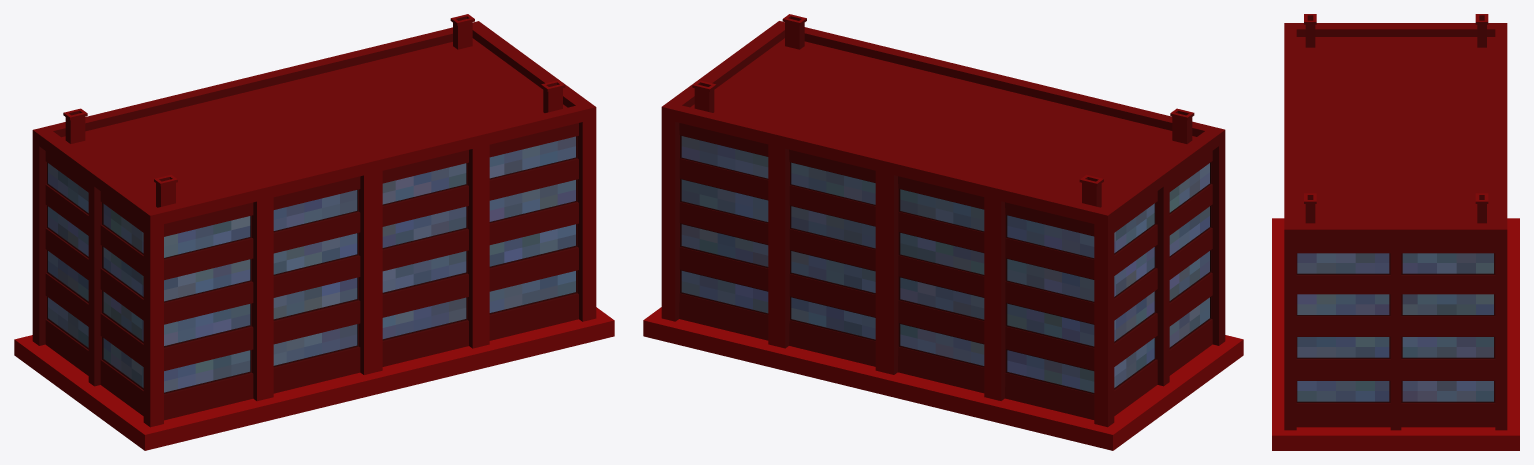
Rendered from buildings-industrial-factory_v1.fbx.
The picture shows the model from 3 angles, left to right: view 1: azimuth 30°, elevation 25°; view 2: azimuth 150°, elevation 25°; view 3: azimuth 270°, elevation 25°; orthographic projection. The views are drawn at different scales.
Parts seen in each view (by area): view 1: Factory_v1_base, Factory_v1_windowRefl; view 2: Factory_v1_base, Factory_v1_windowRefl; view 3: Factory_v1_base, Factory_v1_windowRefl.
Part boxes in pixels (x1=…): Factory_v1_base: x1=14, y1=14, x2=614, y2=450; Factory_v1_windowRefl: x1=48, y1=136, x2=575, y2=392; Factory_v1_base: x1=643, y1=14, x2=1243, y2=450; Factory_v1_windowRefl: x1=681, y1=136, x2=1209, y2=392; Factory_v1_base: x1=1272, y1=14, x2=1519, y2=450; Factory_v1_windowRefl: x1=1297, y1=253, x2=1493, y2=401.
Size of the model in its own units: 48.35 by 24.29 by 23.28.
